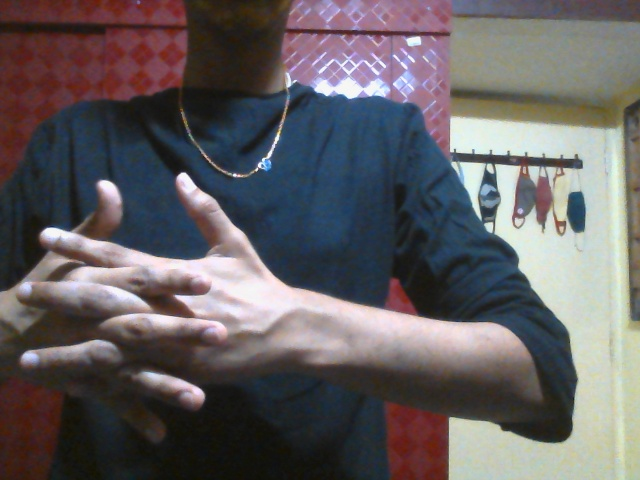W: (7, 171, 288, 452)
